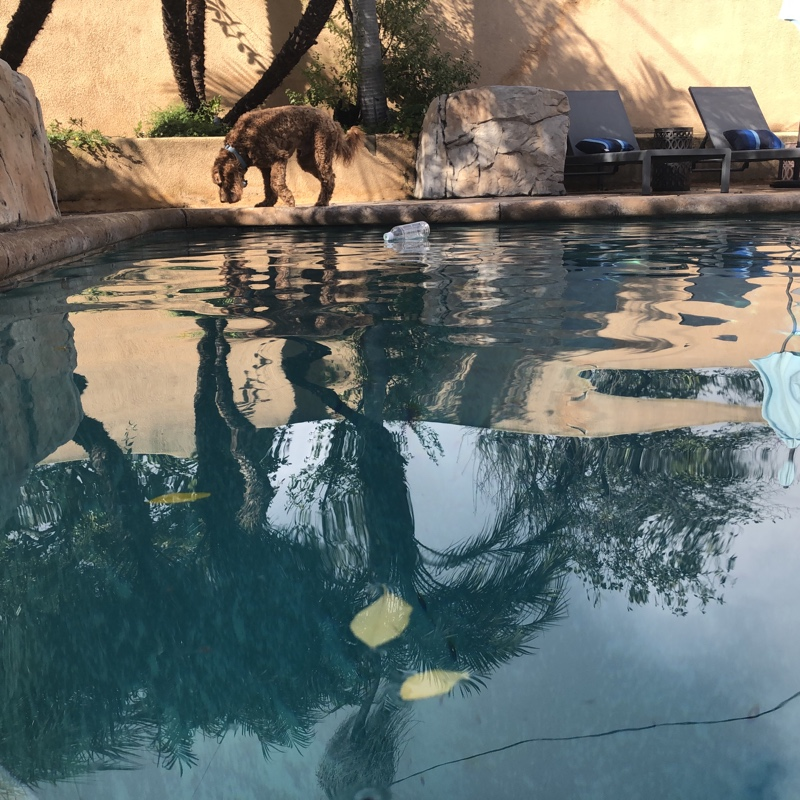Plastic Bottle: (382, 221, 431, 244)
